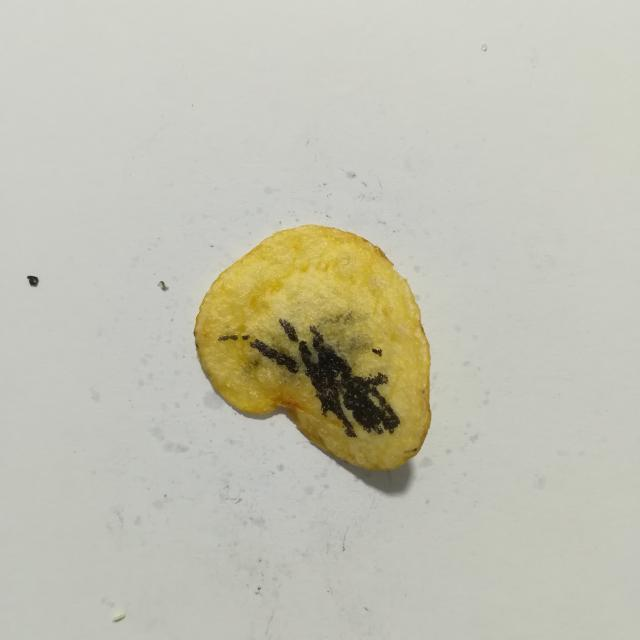chip: (194, 225, 431, 470)
damaged: (298, 326, 400, 437), (250, 339, 298, 373), (279, 319, 298, 341), (27, 275, 39, 287), (218, 335, 238, 341), (372, 348, 382, 356), (242, 335, 249, 340)
semi-damaged: (310, 308, 375, 369)
